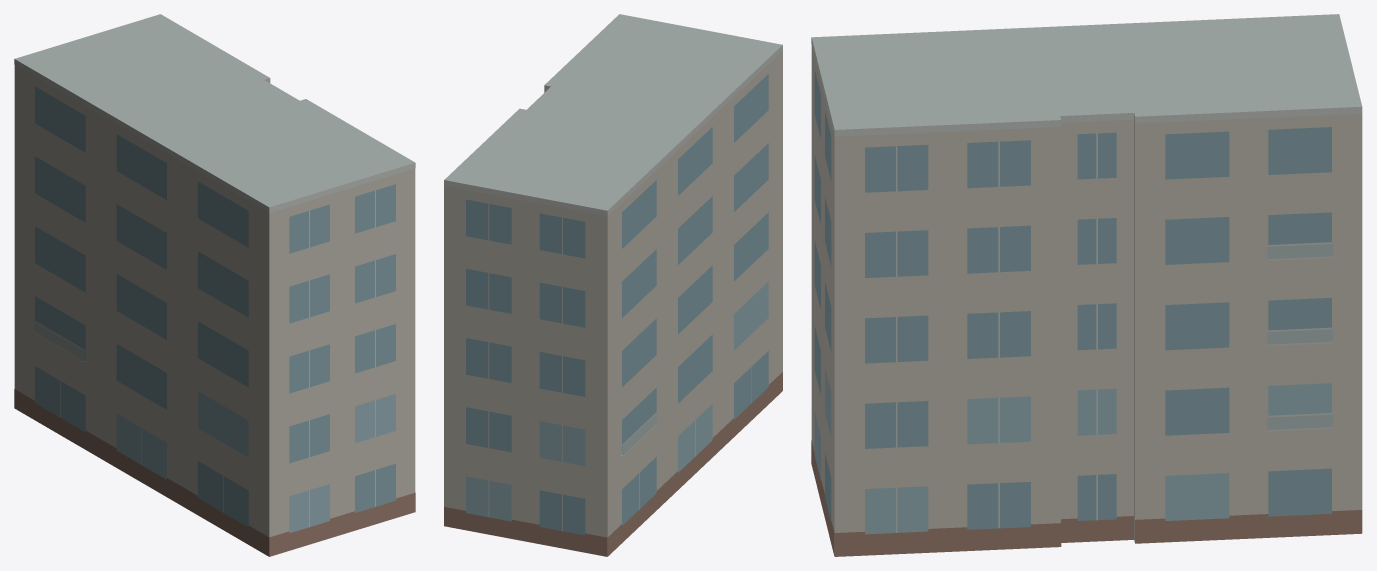
The model's file is survey-upis-32614581.glb.
3 renders of one model, left to right at view 1: azimuth 30°, elevation 25°; view 2: azimuth 150°, elevation 25°; view 3: azimuth 270°, elevation 25°, orthographic. The views are drawn at different scales.
Parts seen in each view (by area): view 1: survey-upis-32614581.tmp; view 2: survey-upis-32614581.tmp; view 3: survey-upis-32614581.tmp.
Boxes of the visible parts, <box> form: survey-upis-32614581.tmp: <box>14,14,415,556</box>; survey-upis-32614581.tmp: <box>444,14,782,556</box>; survey-upis-32614581.tmp: <box>811,14,1362,556</box>.
Size of the model in its own units: 8.89 by 15.25 by 17.84.
